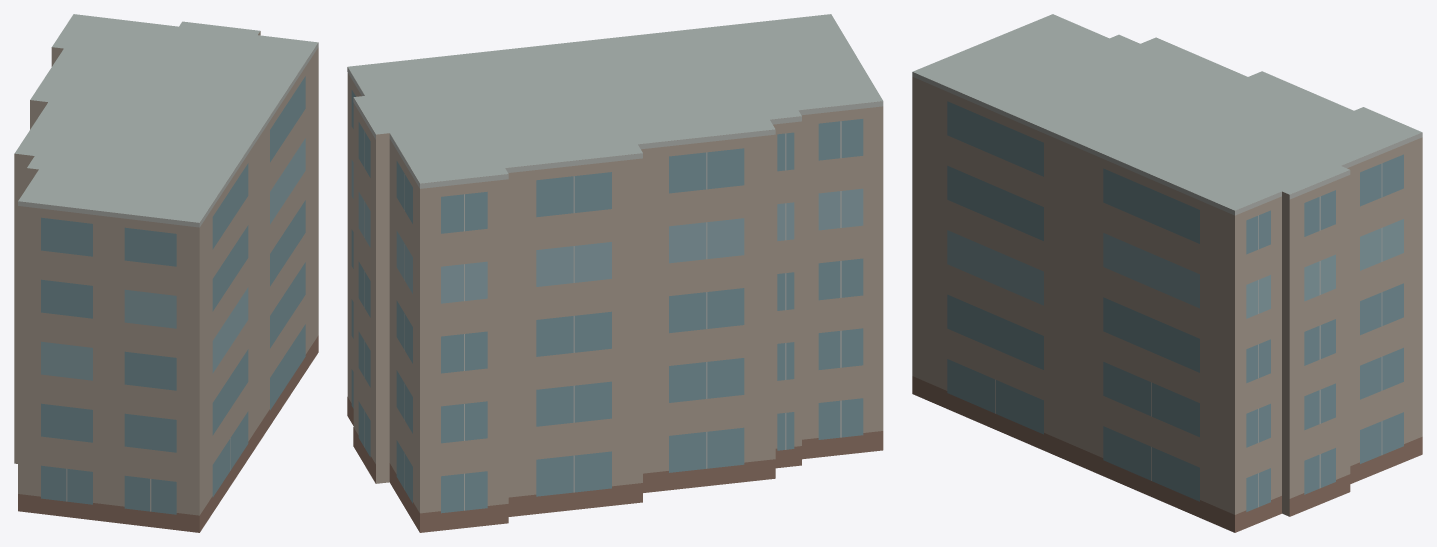
The model's file is survey-upis-32581511.glb.
The picture shows the model from 3 angles, left to right: view 1: azimuth 30°, elevation 25°; view 2: azimuth 150°, elevation 25°; view 3: azimuth 270°, elevation 25°; orthographic projection. The views are drawn at different scales.
Visible parts, largest first — view 1: survey-upis-32581511.tmp; view 2: survey-upis-32581511.tmp; view 3: survey-upis-32581511.tmp.
Boxes of the visible parts, x1,y1,x2,y2 form: survey-upis-32581511.tmp: [14, 14, 318, 532]; survey-upis-32581511.tmp: [347, 14, 883, 532]; survey-upis-32581511.tmp: [912, 14, 1422, 532].
Size of the model in its own units: 21.31 by 16.26 by 23.35.
